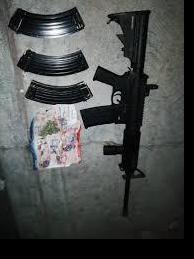larga: (79, 9, 160, 219)
